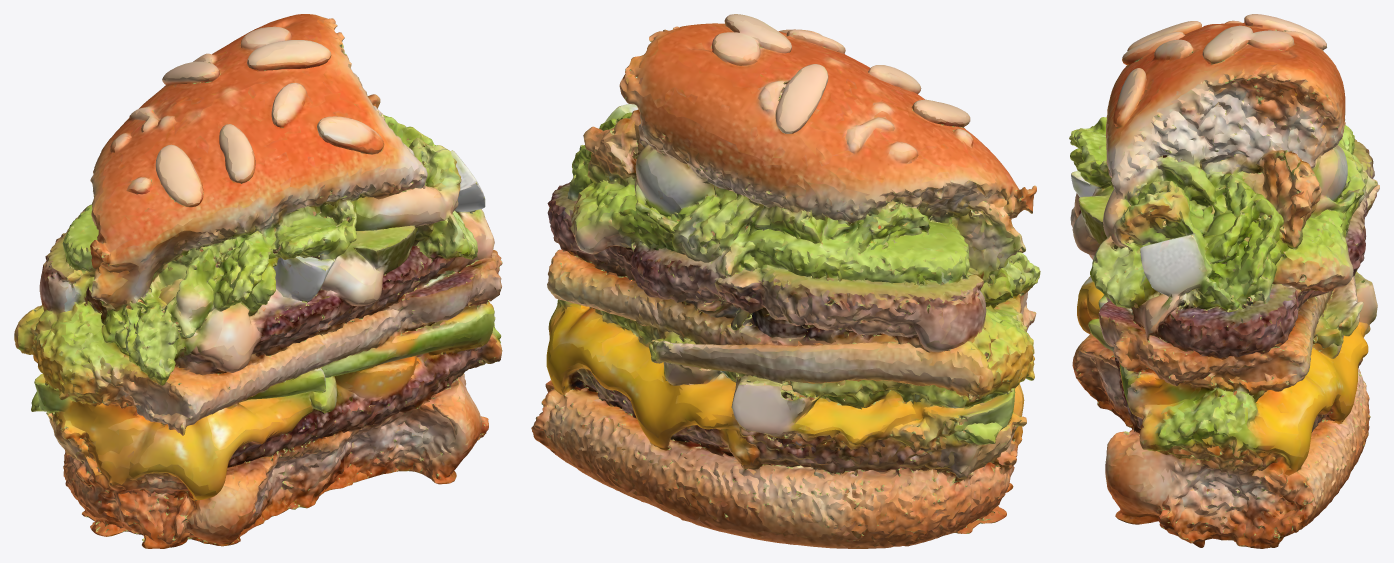
The model's file is burger-3.glb.
The picture shows the model from 3 angles, left to right: view 1: azimuth 30°, elevation 25°; view 2: azimuth 150°, elevation 25°; view 3: azimuth 270°, elevation 25°; orthographic projection. The views are drawn at different scales.
Visible parts, largest first — view 1: geometry_0; view 2: geometry_0; view 3: geometry_0.
Boxes of the visible parts, <box> form: geometry_0: <box>14,14,502,548</box>; geometry_0: <box>531,14,1040,548</box>; geometry_0: <box>1069,14,1379,548</box>.
Size of the model in its own units: 0.1343 by 0.13 by 0.0821.
Materials: 1 (1 with a texture image).
